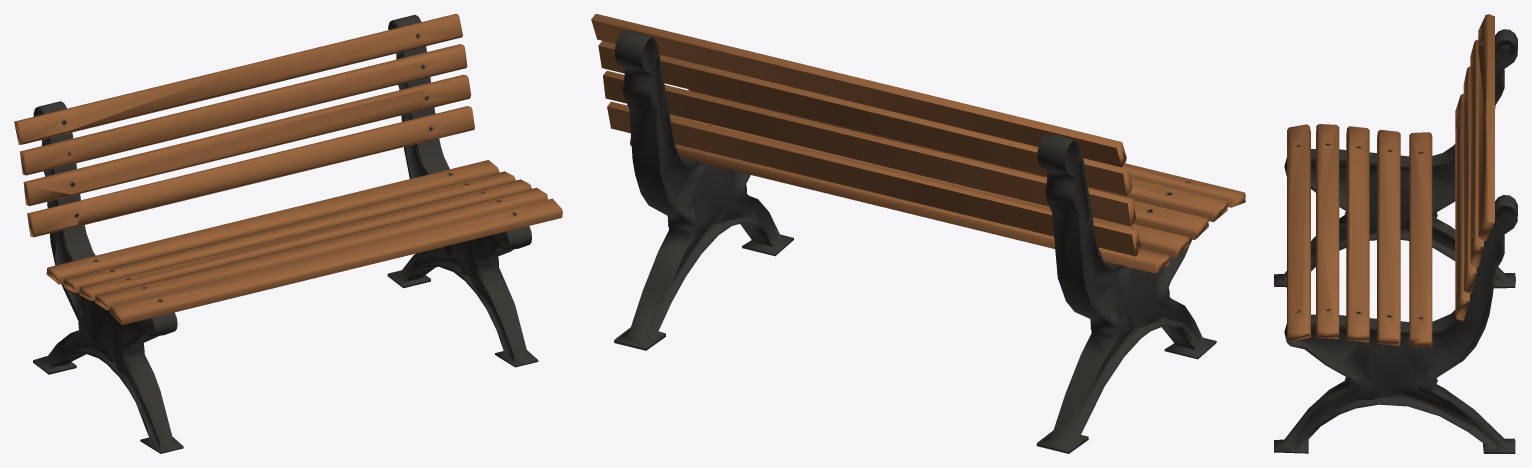
The model's file is bench-0-mid.glb.
3 renders of one model, left to right at view 1: azimuth 30°, elevation 25°; view 2: azimuth 150°, elevation 25°; view 3: azimuth 270°, elevation 25°, orthographic. The views are drawn at different scales.
Visible parts, largest first — view 1: Polygon_Wood_0, threads_2_Thread_0; view 2: Polygon_Wood_0, threads_2_Thread_0; view 3: Polygon_Wood_0, threads_2_Thread_0.
Part boxes in pixels (box(x1,y1,x2,y2)): Polygon_Wood_0: box(14, 14, 562, 325); threads_2_Thread_0: box(33, 14, 538, 453); Polygon_Wood_0: box(591, 14, 1245, 273); threads_2_Thread_0: box(614, 30, 1216, 453); Polygon_Wood_0: box(1287, 14, 1494, 346); threads_2_Thread_0: box(1274, 29, 1517, 453).
Size of the model in its own units: 1.7 by 0.9495 by 0.844.
